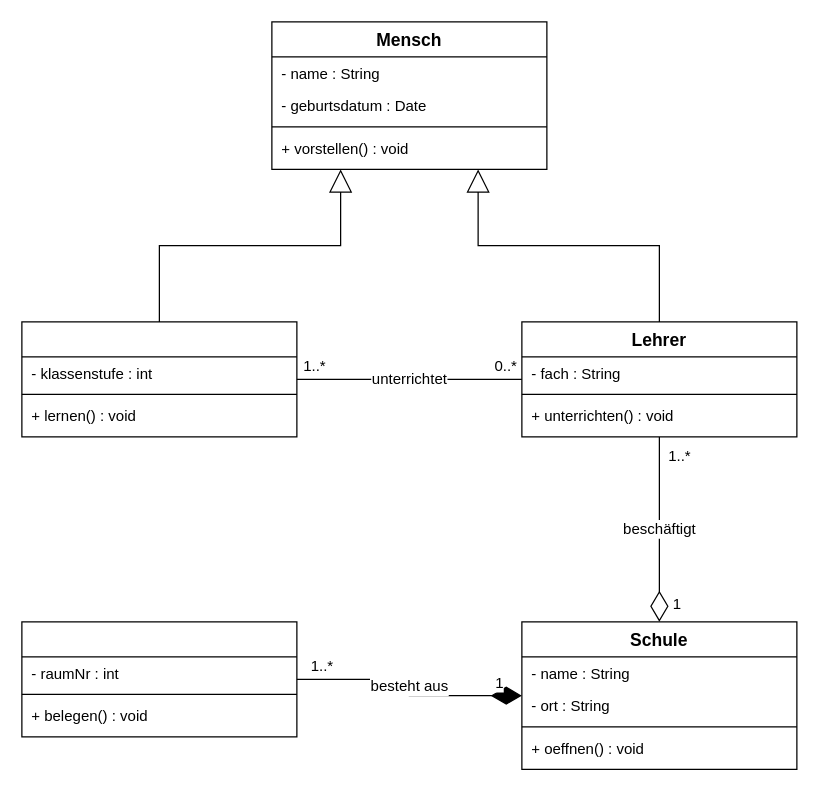
Some shapes in this 819 by 791 pixel diagram are drawn without their labels. Each missing label, with the box of its shape:
Klassenraum: (21, 621, 297, 737)
Schüler: (21, 321, 297, 437)
